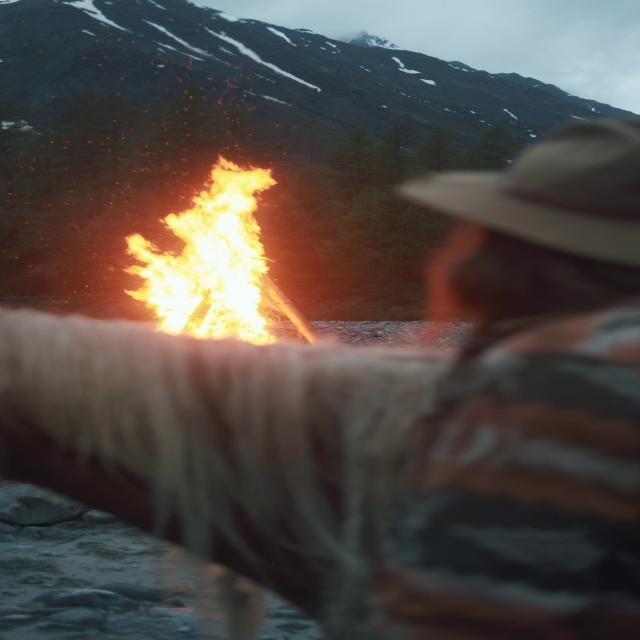Fire: (115, 148, 324, 346)
